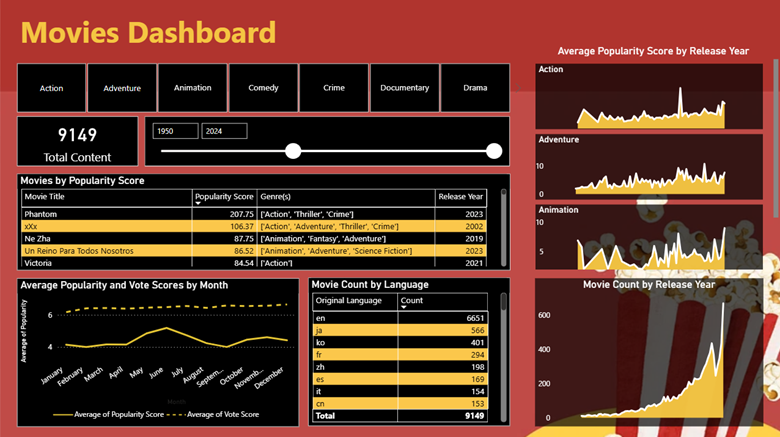

The dashboard page shown, as its layout file describes it:
{"tool":"powerbi","page":{"name":"Data Story Telling","canvas":[1280,720],"ordinal":1},"visuals":[{"type":"slicer","fields":{"Values":["df.Main_Genre"]},"box":[2.9,97.1,857.1,94.3],"z":0},{"type":"slicer","fields":{"Values":["df.ReleaseYear"]},"box":[237.7,191.5,597.7,81.5],"z":1000},{"type":"tableEx","title":"Movie Count by Language","fields":{"Values":["df.original_language","CountNonNull(df.original_language)"]},"box":[504.6,455.4,330.8,243.1],"z":2000},{"type":"stackedAreaChart","title":"Average Popularity Score by Release Year","fields":{"Category":["df.ReleaseYear"],"Y":["Avg(df.popularity)"],"Rows":["df.Main_Genre"]},"box":[860,73.6,420,378.6],"z":3000},{"type":"textbox","box":[28.6,14.3,802.9,82.9],"z":4000},{"type":"tableEx","title":"Movies by Popularity Score","fields":{"Values":["df.title","df.popularity","df.genre_ids","df.ReleaseYear"]},"box":[28.5,284.6,806.9,158.5],"z":5000},{"type":"card","fields":{"Values":["CountNonNull(df.title)"]},"box":[29.2,191.5,198.5,81.5],"z":6000},{"type":"lineChart","title":"Average Popularity and Vote Scores by Month","fields":{"Category":["df.release_date.Variation.Date Hierarchy.Month"],"Y":["Avg(df.popularity)","Avg(df.vote_average)"]},"box":[28.6,455.7,461.4,242.9],"z":7000},{"type":"lineChart","title":"Movie Count by Release Year","fields":{"Category":["df.ReleaseYear"],"Y":["CountNonNull(df.title)"]},"box":[875.8,456.7,373.3,242.5],"z":8000}]}

Visuals, with their boxes in screenshot pixels (x1, y1, x2, y2), scaled from the page's 1280x720 canvas onto the 780x437 screenshot:
slicer - df.Main_Genre: locate(2, 59, 524, 116)
slicer - df.ReleaseYear: locate(145, 116, 509, 166)
"Movie Count by Language" tableEx: locate(307, 276, 509, 424)
"Average Popularity Score by Release Year" stackedAreaChart: locate(524, 45, 779, 274)
textbox: locate(17, 9, 507, 59)
"Movies by Popularity Score" tableEx: locate(17, 173, 509, 269)
card - CountNonNull(df.title): locate(18, 116, 139, 166)
"Average Popularity and Vote Scores by Month" lineChart: locate(17, 277, 299, 424)
"Movie Count by Release Year" lineChart: locate(534, 277, 761, 424)
